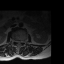CCS_stenosis: (18, 39, 20, 45)
LFS_normal: (21, 39, 23, 43)
LLS_normal: (20, 39, 21, 45)
RFS_normal: (14, 39, 16, 43)
RLS_normal: (16, 39, 17, 44)
